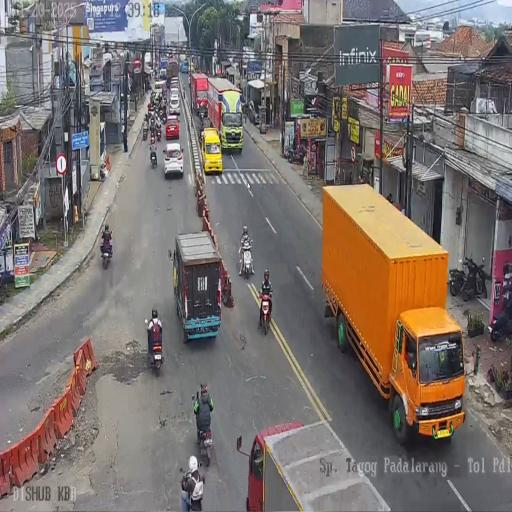car: (201, 128, 223, 176), (163, 141, 184, 179), (165, 114, 180, 140), (169, 90, 180, 116), (154, 80, 167, 98), (171, 77, 179, 94), (159, 68, 167, 81), (181, 59, 188, 73)
motorcycle: (449, 254, 487, 301), (194, 410, 214, 466), (146, 319, 164, 373), (489, 308, 510, 342), (238, 237, 255, 278), (258, 288, 272, 336), (285, 141, 306, 165), (100, 233, 113, 269), (150, 141, 157, 168), (198, 123, 204, 148), (155, 121, 162, 141), (142, 122, 149, 140), (150, 122, 155, 143), (160, 106, 166, 123)
truck: (322, 182, 464, 446), (254, 418, 382, 510), (170, 230, 222, 342), (144, 52, 151, 74)
